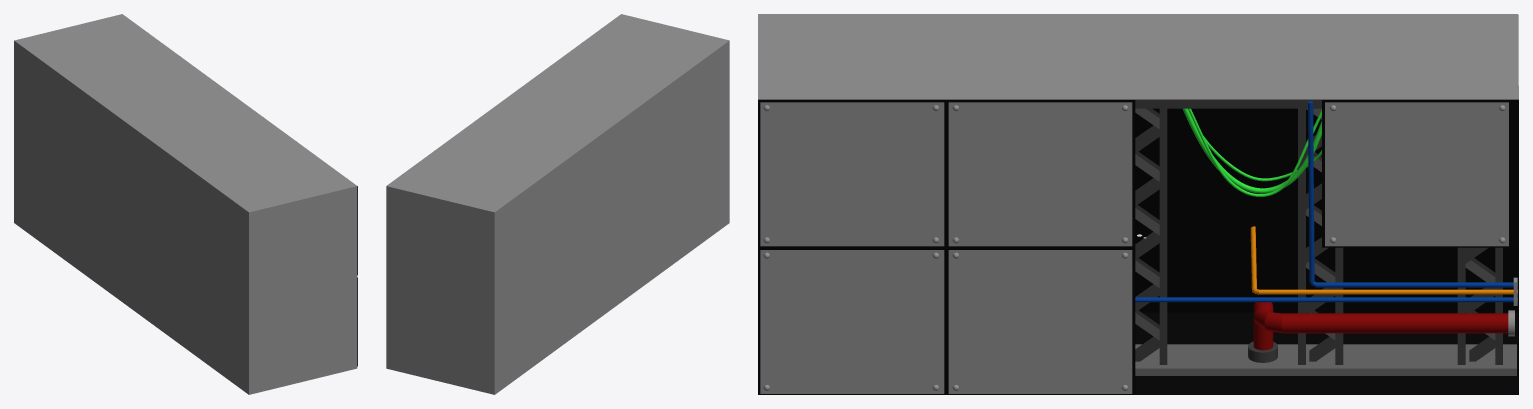
File: WallModel03 v1.fbx
3 renders of one model, left to right at view 1: azimuth 30°, elevation 25°; view 2: azimuth 150°, elevation 25°; view 3: azimuth 270°, elevation 25°, orthographic. The views are drawn at different scales.
Parts seen in each view (by area): view 1: Cube.008; view 2: Cube.008; view 3: Cube.008, Cube, Cylinder, Catenary, Cube.009.
Part boxes in pixels (x1=…): Cube.008: x1=14, y1=14, x2=357, y2=394; Cube.008: x1=386, y1=14, x2=729, y2=394; Cube.008: x1=758, y1=14, x2=1518, y2=394; Cube: x1=1135, y1=108, x2=1516, y2=375; Cylinder: x1=1135, y1=101, x2=1517, y2=350; Catenary: x1=1183, y1=108, x2=1321, y2=196; Cube.009: x1=1135, y1=100, x2=1321, y2=108.
Bounding box in the file's own units: 3822 × 6000 × 14007.
